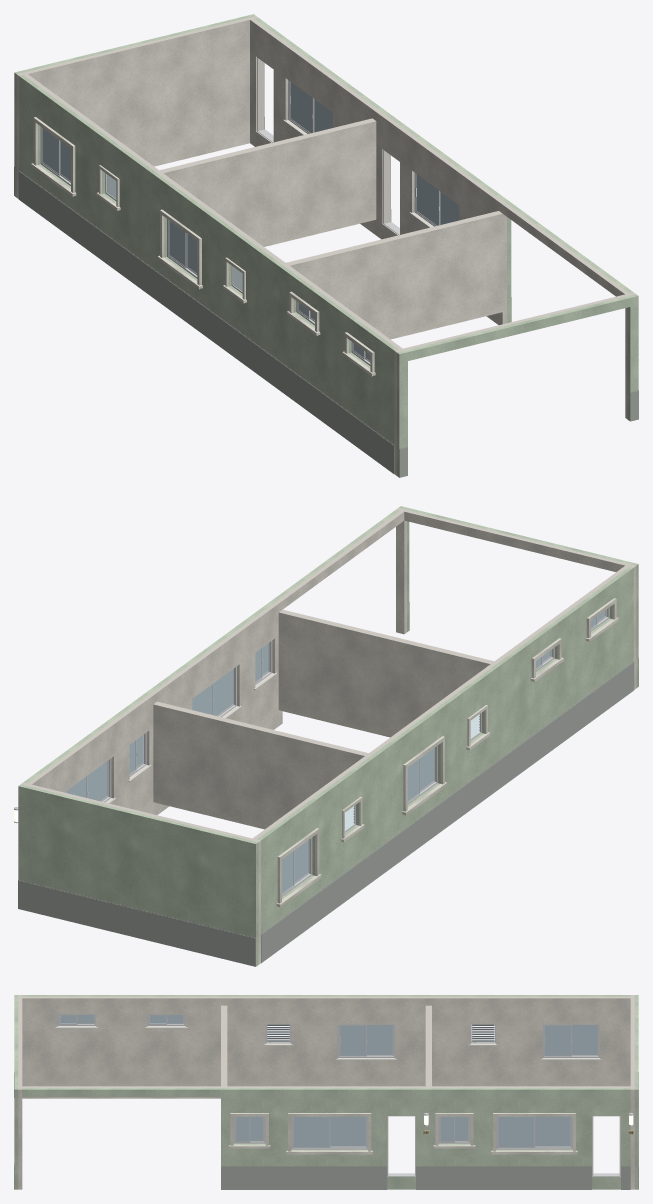
The model's file is envelope_w_ground.glb.
3 views of the same model, one above another, from view 1: azimuth 30°, elevation 25°; view 2: azimuth 150°, elevation 25°; view 3: azimuth 270°, elevation 25° (orthographic). The views are drawn at different scales.
Visible parts, largest first — view 1: envelope_w_ground_plaster, envelope_w_ground_stucco, envelope_w_ground_plinth, envelope_w_ground_glass, envelope_w_ground_stucco_w, envelope_w_ground_alu, envelope_w_ground_trim; view 2: envelope_w_ground_stucco, envelope_w_ground_plaster, envelope_w_ground_plinth, envelope_w_ground_glass, envelope_w_ground_stucco_w, envelope_w_ground_alu; view 3: envelope_w_ground_plaster, envelope_w_ground_stucco, envelope_w_ground_glass, envelope_w_ground_plinth, envelope_w_ground_alu, envelope_w_ground_stucco_w, envelope_w_ground_trim, envelope_w_ground_jal.
Boxes of the visible parts, box(x1,y1,x2,y2) form: envelope_w_ground_plaster: box(16, 16, 635, 475); envelope_w_ground_stucco: box(14, 14, 638, 477); envelope_w_ground_plinth: box(14, 117, 638, 477); envelope_w_ground_glass: box(43, 82, 459, 360); envelope_w_ground_stucco_w: box(31, 117, 375, 376); envelope_w_ground_alu: box(40, 80, 440, 365); envelope_w_ground_trim: box(257, 57, 433, 227); envelope_w_ground_stucco: box(18, 506, 638, 966); envelope_w_ground_plaster: box(21, 508, 636, 964); envelope_w_ground_plinth: box(18, 602, 638, 966); envelope_w_ground_glass: box(67, 610, 605, 893); envelope_w_ground_stucco_w: box(276, 598, 618, 907); envelope_w_ground_alu: box(86, 607, 609, 896); envelope_w_ground_plaster: box(18, 995, 634, 1189); envelope_w_ground_stucco: box(14, 995, 638, 1189); envelope_w_ground_glass: box(60, 1015, 597, 1146); envelope_w_ground_plinth: box(14, 1072, 638, 1189); envelope_w_ground_alu: box(57, 1014, 619, 1176); envelope_w_ground_stucco_w: box(229, 1040, 577, 1154); envelope_w_ground_trim: box(55, 1026, 620, 1176); envelope_w_ground_jal: box(267, 1024, 494, 1041).
Bounding box in the file's own units: 7.35 × 3.45 × 19.53.
13 materials, 3 textured.
